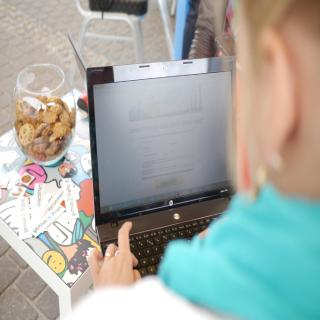Cookie: (13, 94, 76, 162)
